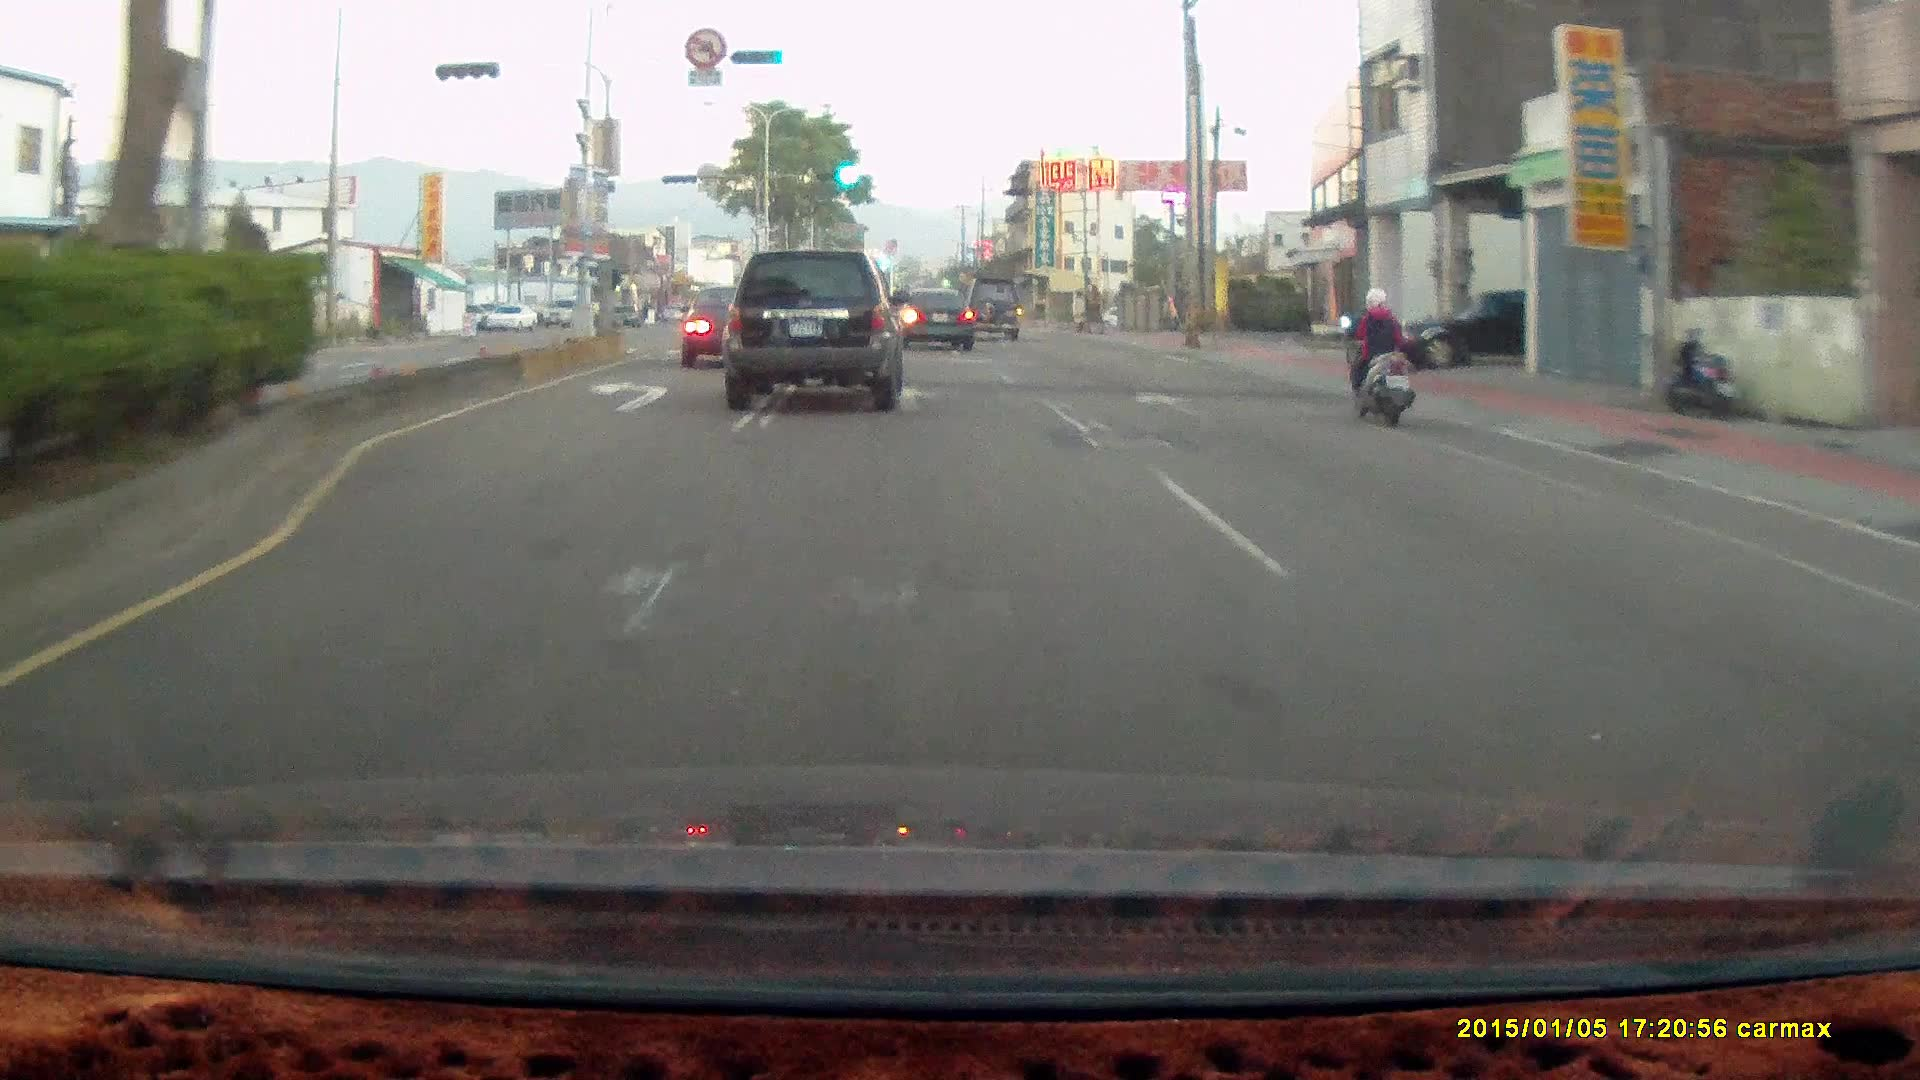rider: (1332, 276, 1429, 435), (1337, 286, 1417, 426)
vehicle: (715, 246, 909, 421), (721, 249, 911, 411), (1387, 286, 1593, 368), (1393, 290, 1540, 374), (682, 287, 792, 373), (679, 287, 787, 369), (892, 289, 978, 352), (892, 287, 974, 350), (959, 278, 1026, 345), (957, 275, 1022, 341), (483, 302, 539, 332), (540, 296, 591, 324)
